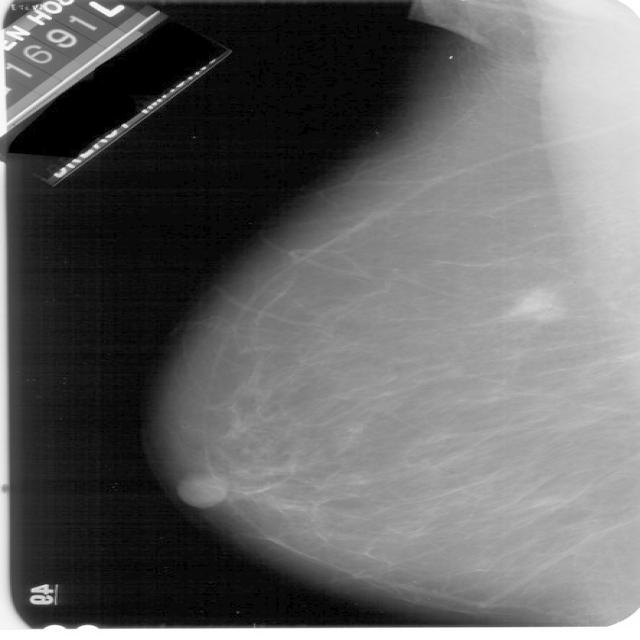tumour: (508, 288, 564, 321)
